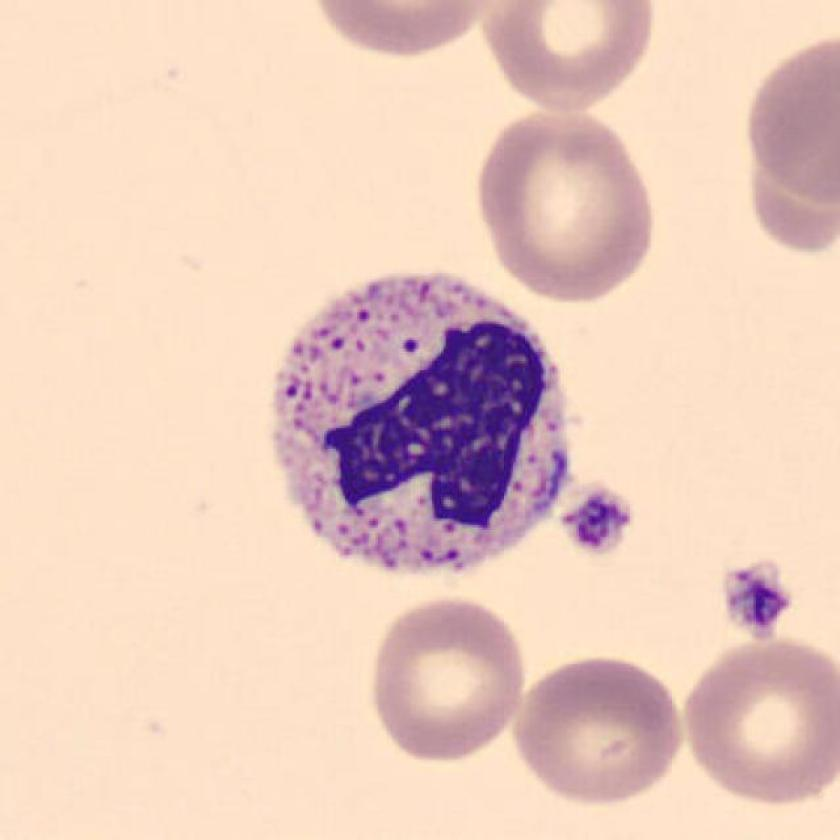neutrophil: (262, 271, 576, 581)
